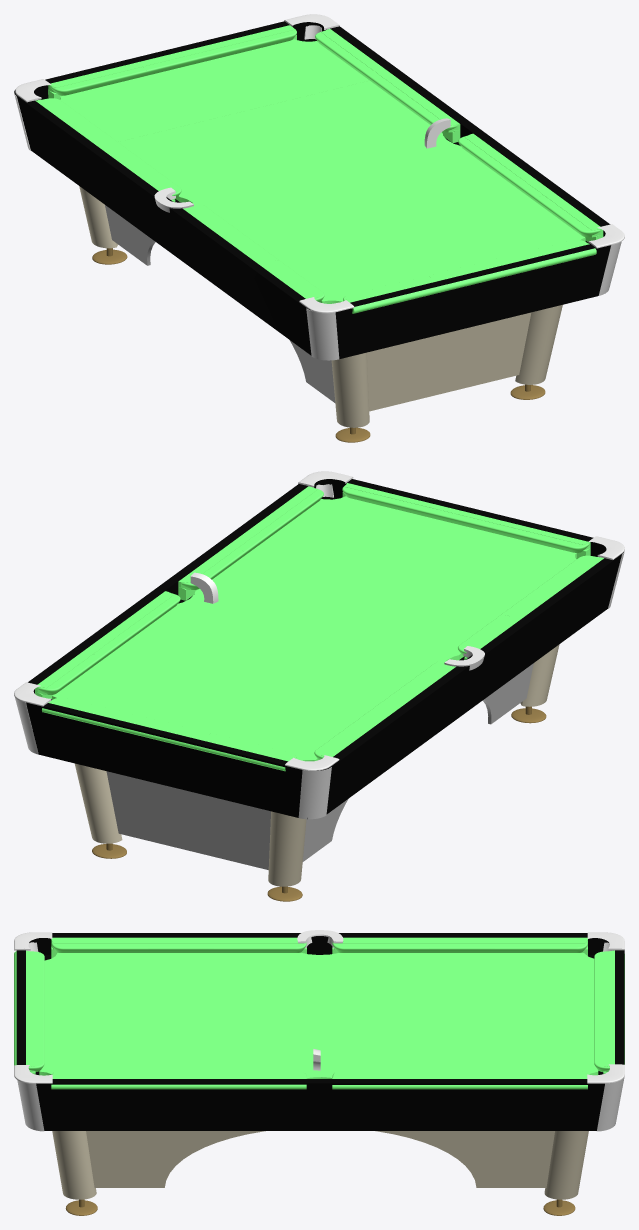
The model's file is pool-table2.glb.
The picture shows the model from 3 angles, top to bottom: view 1: azimuth 30°, elevation 25°; view 2: azimuth 150°, elevation 25°; view 3: azimuth 270°, elevation 25°; orthographic projection. The views are drawn at different scales.
Visible parts, largest first — view 1: Doek, Zijkanten, Sier achter, Poten, Sier rechts, Put styles, Put omheining; view 2: Doek, Zijkanten, Sier voor, Poten, Sier rechts, Put styles, Put omheining; view 3: Doek, Zijkanten, Sier links, Poten, Put styles, Put omheining, Put linksmidden, Poots rechtsonder, Poot linksachter, Put omheining linksachter.
Boxes of the visible parts, x1,y1,x2,y2 form: Doek: [35, 25, 603, 313]; Zijkanten: [14, 21, 610, 358]; Sier achter: [367, 312, 531, 411]; Poten: [79, 186, 562, 427]; Sier rechts: [105, 205, 335, 402]; Put styles: [14, 25, 621, 360]; Put omheining: [15, 14, 624, 248]; Doek: [35, 483, 603, 771]; Zijkanten: [26, 479, 623, 818]; Sier voor: [106, 771, 270, 869]; Poten: [74, 644, 559, 886]; Sier rechts: [302, 663, 533, 861]; Put styles: [15, 484, 624, 819]; Put omheining: [14, 471, 353, 770]; Doek: [14, 937, 624, 1089]; Zijkanten: [16, 933, 624, 1130]; Sier links: [86, 1131, 554, 1187]; Poten: [52, 1131, 588, 1199]; Put styles: [17, 942, 624, 1131]; Put omheining: [14, 932, 624, 1083]; Put linksmidden: [297, 930, 343, 948]; Poots rechtsonder: [543, 1199, 575, 1215]; Poot linksachter: [65, 1199, 97, 1215]; Put omheining linksachter: [14, 932, 52, 950].
Bounding box in the file's own units: 8.9 × 4.74 × 15.08.
